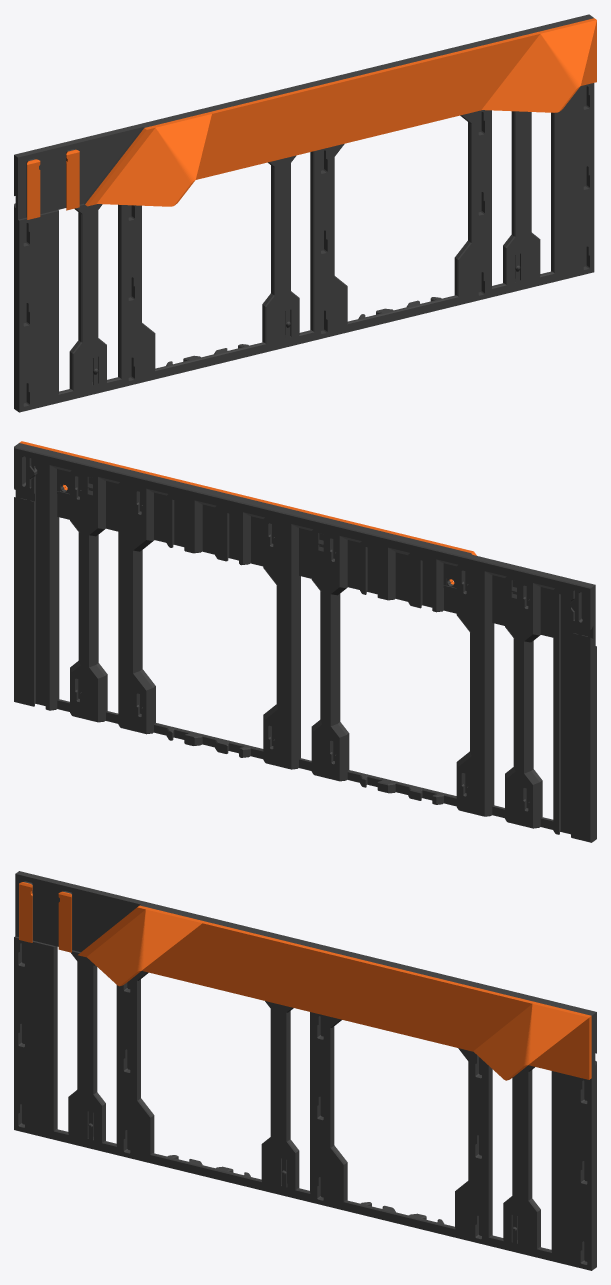
File: Faceplate_EdgeLabel_3W-2H.lib.glb
3 renders of one model, top to bottom at view 1: azimuth 30°, elevation 25°; view 2: azimuth 150°, elevation 25°; view 3: azimuth 330°, elevation 25°, orthographic.
Visible parts, largest first — view 1: Faceplate_EdgeLabel_3W-2H; view 2: Faceplate_EdgeLabel_3W-2H; view 3: Faceplate_EdgeLabel_3W-2H.
Boxes of the visible parts, box(x1,y1,x2,y2) form: Faceplate_EdgeLabel_3W-2H: box(14, 14, 596, 412); Faceplate_EdgeLabel_3W-2H: box(14, 441, 596, 842); Faceplate_EdgeLabel_3W-2H: box(14, 871, 596, 1270).
Size of the model in its own units: 263 by 111 by 24.11.
